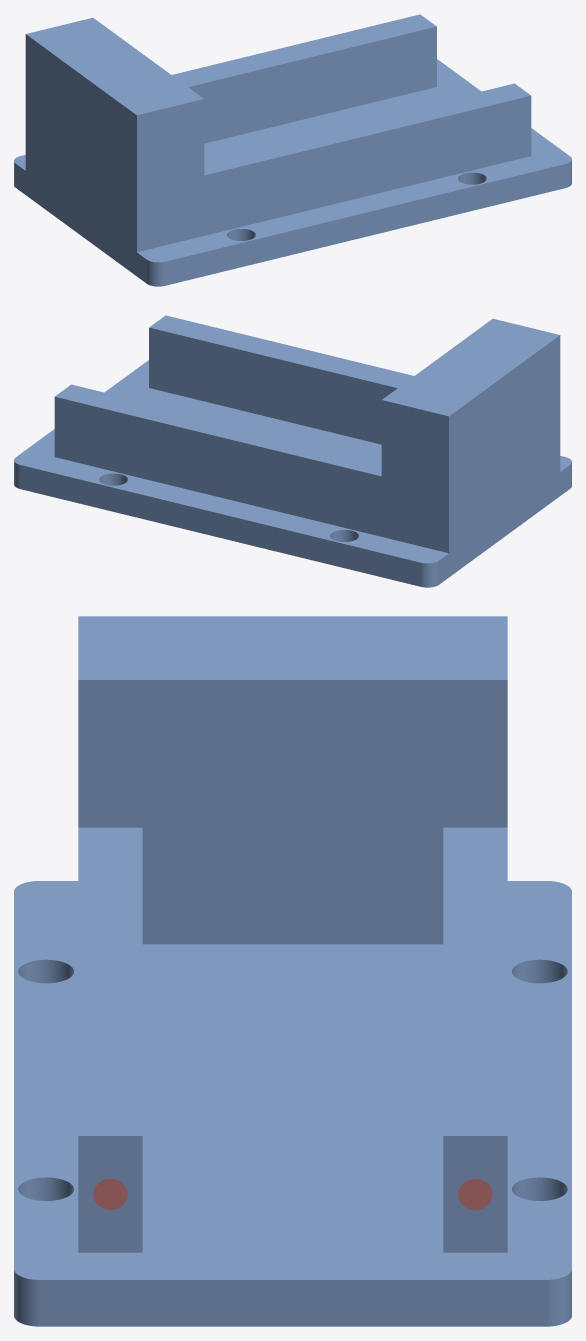
Rendered from step_06.glb.
3 views of the same model, one above another, from view 1: azimuth 30°, elevation 25°; view 2: azimuth 150°, elevation 25°; view 3: azimuth 270°, elevation 25° (orthographic). The views are drawn at different scales.
Parts seen in each view (by area): view 1: part__body; view 2: part__body; view 3: part__body, removed__body.
Part boxes in pixels (left/top/right/bottom): part__body: left=14, top=14, right=571, bottom=286; part__body: left=14, top=315, right=571, bottom=587; part__body: left=14, top=616, right=571, bottom=1326; removed__body: left=93, top=1179, right=492, bottom=1209.
Bounding box in the file's own units: 220 × 80 × 130.
